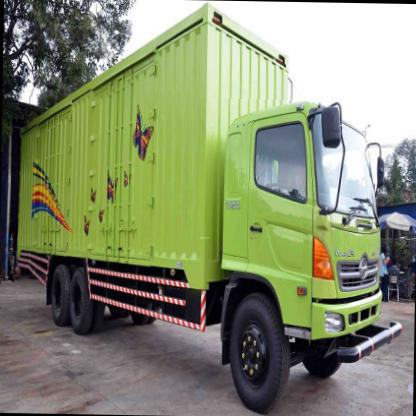truck: (219, 99, 392, 416)
